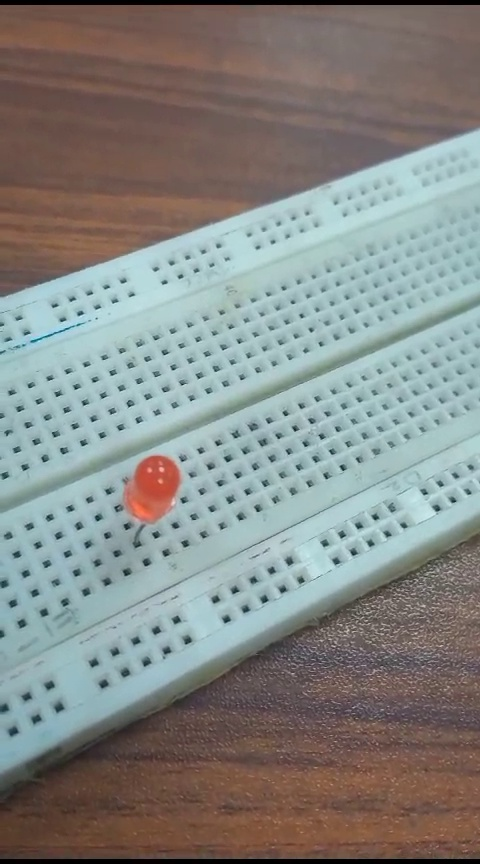LED: (118, 451, 183, 539)
